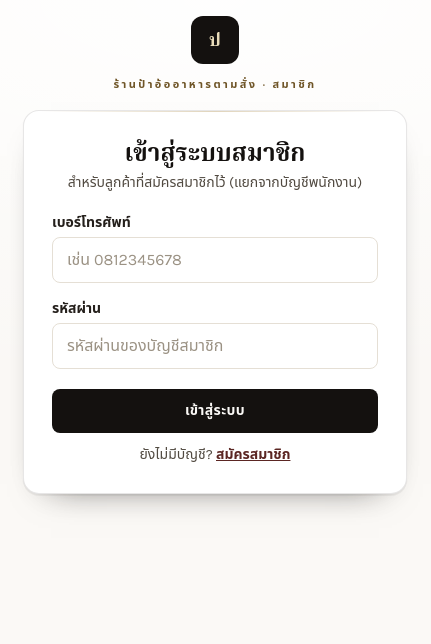
Test case: หน้าเข้าสู่ระบบสมาชิก (ภาษาไทย) › แสดง label และลิงก์สมัครสมาชิก
Check: the field labelled "เบอร์โทรศัพท์" is shown, box [52,237,378,283]
Check: the password field labelled "รหัสผ่าน" is shown, box [52,323,378,369]
Click the button "เข้าสู่ระบบ" at (215, 411), box [52,389,378,433]
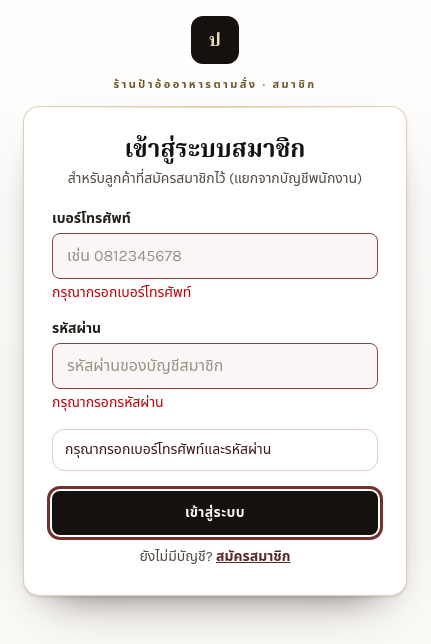
Check: the message reads "กรุณากรอกเบอร์โทรศัพท์และรหัสผ่าน", box [65,441,271,458]
